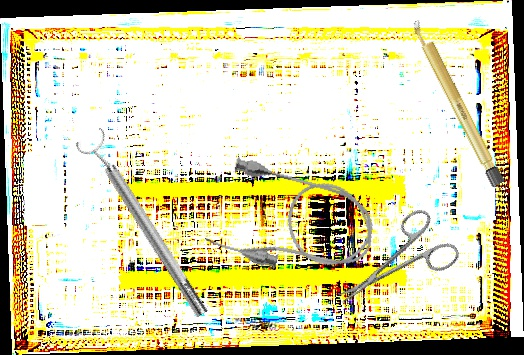Cannula: (202, 153, 384, 291)
Fixation Ring: (74, 126, 216, 324)
Iris Scissors: (321, 202, 463, 326)
Scalpel Handle: (409, 17, 506, 188)
